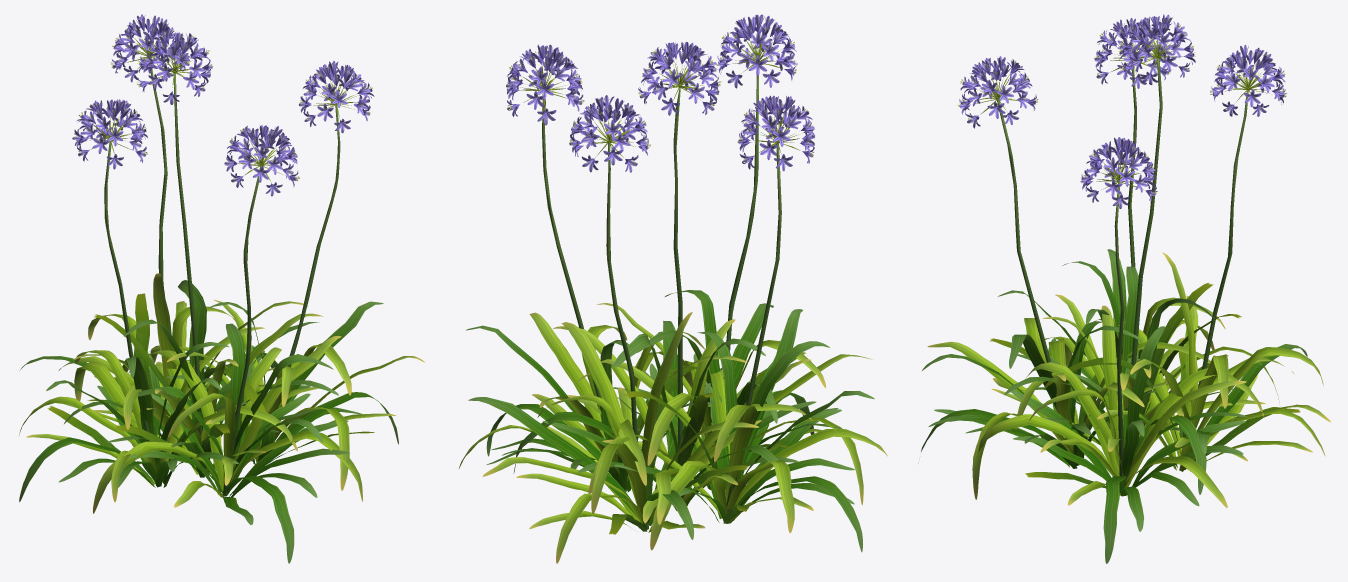
Rendered from agapanthus_02.glb.
The picture shows the model from 3 angles, left to right: view 1: azimuth 30°, elevation 25°; view 2: azimuth 150°, elevation 25°; view 3: azimuth 270°, elevation 25°; orthographic projection. The views are drawn at different scales.
Visible parts, largest first — view 1: Agapanthus_a__B001; view 2: Agapanthus_a__B001; view 3: Agapanthus_a__B001.
Boxes of the visible parts, <box> form: Agapanthus_a__B001: <box>18,14,424,563</box>; Agapanthus_a__B001: <box>459,14,887,563</box>; Agapanthus_a__B001: <box>918,14,1330,563</box>.
Size of the model in its own units: 0.9002 by 1.05 by 0.8727.
Materials: 7 (7 with a texture image).
